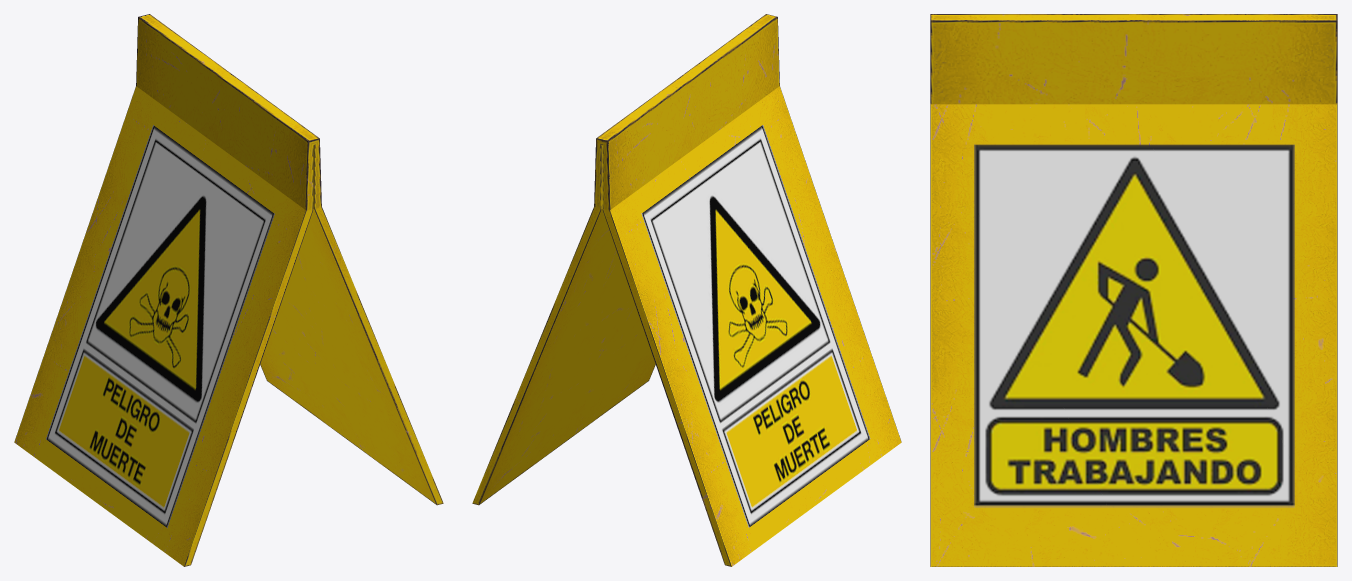
The model's file is cartel.fbx.
3 views of the same model, side by side, from view 1: azimuth 30°, elevation 25°; view 2: azimuth 150°, elevation 25°; view 3: azimuth 270°, elevation 25° (orthographic). The views are drawn at different scales.
Parts seen in each view (by area): view 1: Box001; view 2: Box001; view 3: Box001.
Boxes of the visible parts, x1,y1,x2,y2 form: Box001: (14,14,443,566); Box001: (472,14,901,566); Box001: (930,14,1337,566).
Size of the model in its own units: 90.31 by 131 by 103.
Materials: 1 (1 with a texture image).
